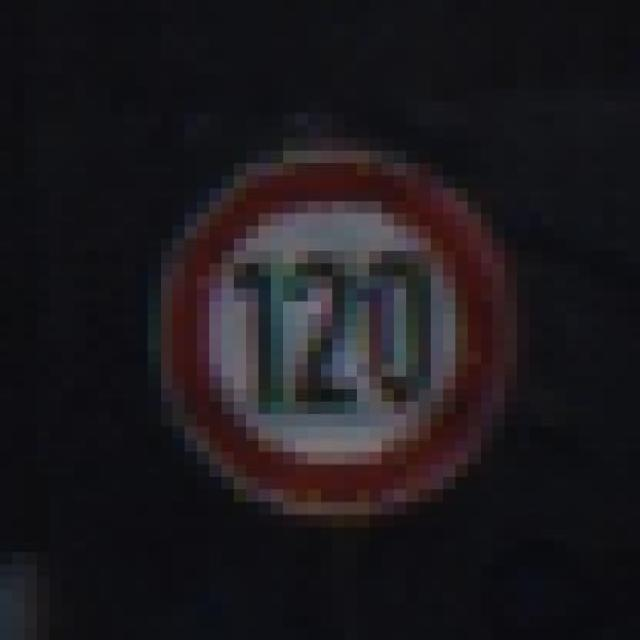forb_speed_over_120: (169, 156, 511, 512)
